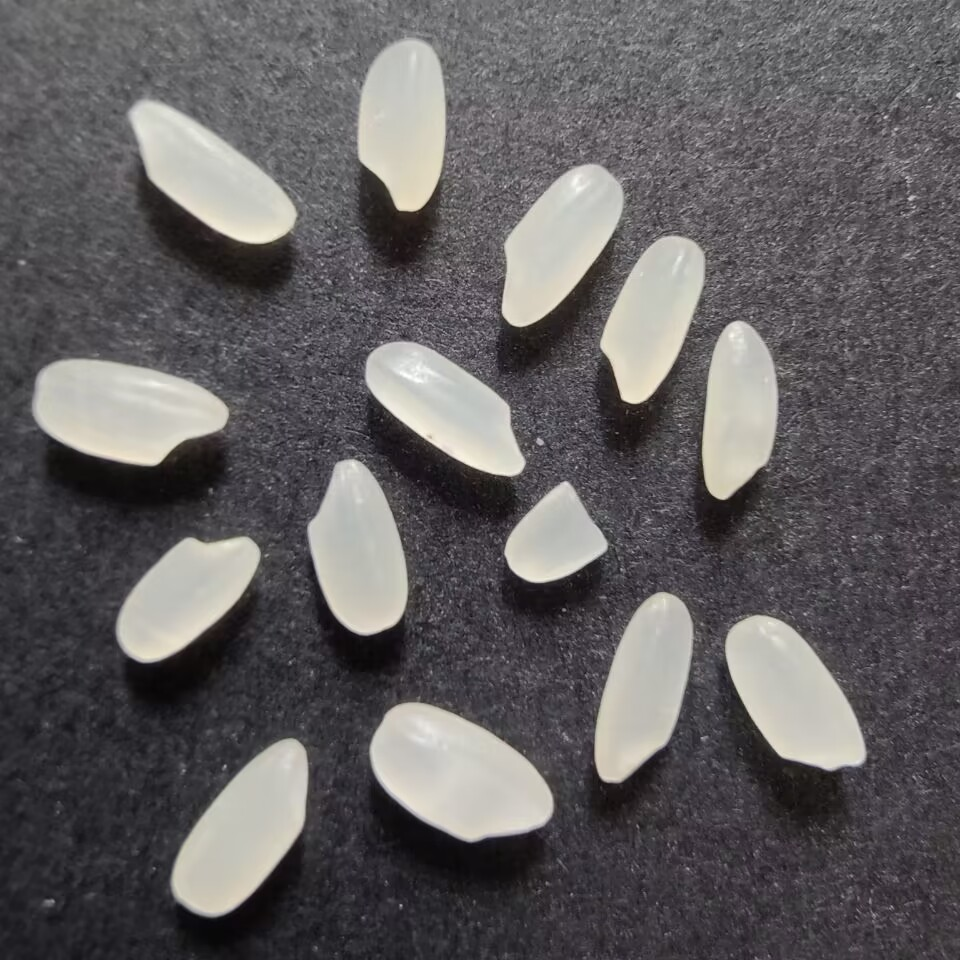broken: (499, 473, 613, 587)
rice: (360, 696, 556, 846), (160, 736, 318, 917), (122, 93, 304, 246), (727, 607, 876, 775), (361, 336, 528, 479), (29, 353, 230, 470), (491, 157, 627, 328), (585, 588, 699, 787), (587, 233, 707, 411), (104, 532, 264, 665), (300, 454, 411, 642), (352, 32, 451, 220), (699, 312, 786, 505)
